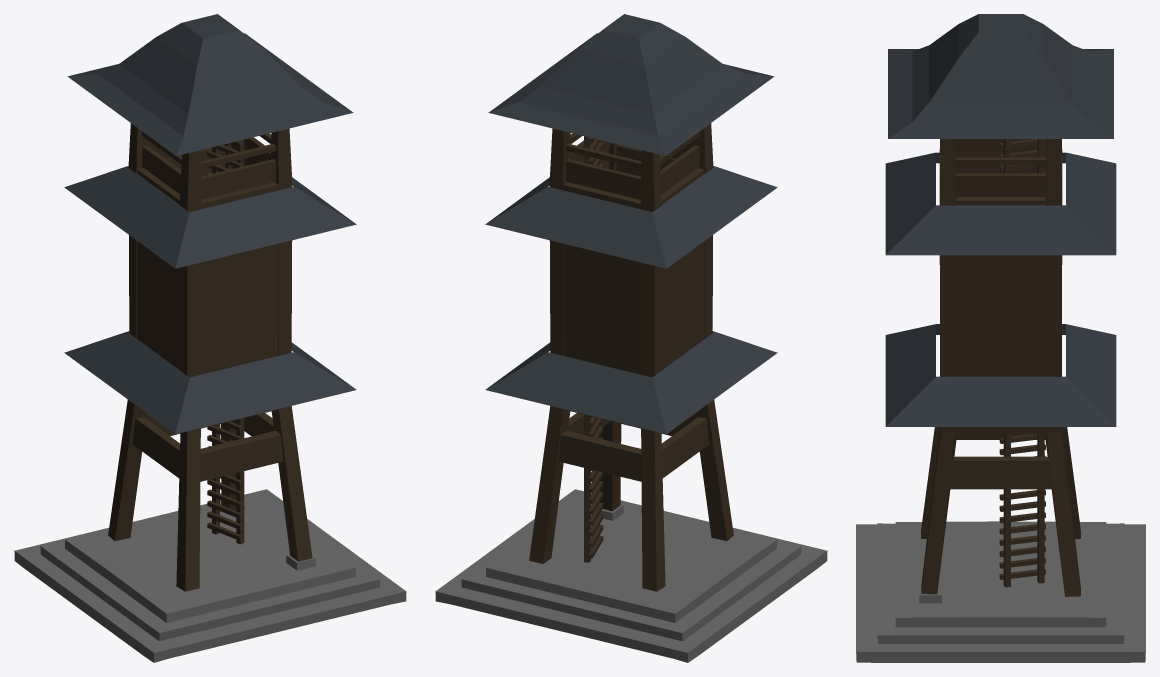
Rendered from tokinokane.glb.
3 views of the same model, side by side, from view 1: azimuth 30°, elevation 25°; view 2: azimuth 150°, elevation 25°; view 3: azimuth 270°, elevation 25° (orthographic). The views are drawn at different scales.
Parts seen in each view (by area): view 1: isidan, 平面.002, mokuzoukabe, isidai.001, 平面, 平面.001, kabe, hasigo, sasaegi; view 2: isidan, 平面.002, mokuzoukabe, isidai.001, 平面, 平面.001, kabe, hasigo, sasaegi; view 3: isidan, 平面.002, mokuzoukabe, 平面.001, 平面, isidai.001, hasigo, kabe, sasaegi.
Part boxes in pixels (left/top/right/bottom): isidan: left=14, top=489, right=406, bottom=662; 平面.002: left=67, top=14, right=353, bottom=155; mokuzoukabe: left=132, top=147, right=291, bottom=481; isidai.001: left=108, top=123, right=312, bottom=591; 平面: left=64, top=331, right=356, bottom=433; 平面.001: left=64, top=166, right=356, bottom=268; kabe: left=142, top=137, right=275, bottom=199; hasigo: left=207, top=139, right=244, bottom=544; sasaegi: left=142, top=131, right=275, bottom=168; isidan: left=435, top=489, right=827, bottom=662; 平面.002: left=488, top=14, right=774, bottom=155; mokuzoukabe: left=550, top=145, right=709, bottom=481; isidai.001: left=529, top=123, right=733, bottom=591; 平面: left=485, top=331, right=777, bottom=433; 平面.001: left=485, top=166, right=777, bottom=268; kabe: left=566, top=140, right=699, bottom=199; hasigo: left=584, top=136, right=603, bottom=562; sasaegi: left=566, top=131, right=699, bottom=168; isidan: left=856, top=521, right=1145, bottom=662; 平面.002: left=888, top=14, right=1113, bottom=138; mokuzoukabe: left=939, top=149, right=1062, bottom=489; 平面.001: left=885, top=152, right=1116, bottom=255; 平面: left=885, top=324, right=1116, bottom=426; isidai.001: left=921, top=139, right=1080, bottom=596; hasigo: left=999, top=139, right=1045, bottom=587; kabe: left=955, top=139, right=1046, bottom=196; sasaegi: left=955, top=157, right=1046, bottom=165.
Size of the model in its own units: 51.54 by 108 by 49.41.
